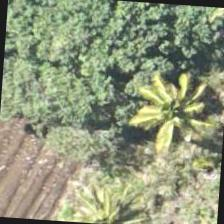Kelapa_Sawit: (124, 56, 220, 152)
